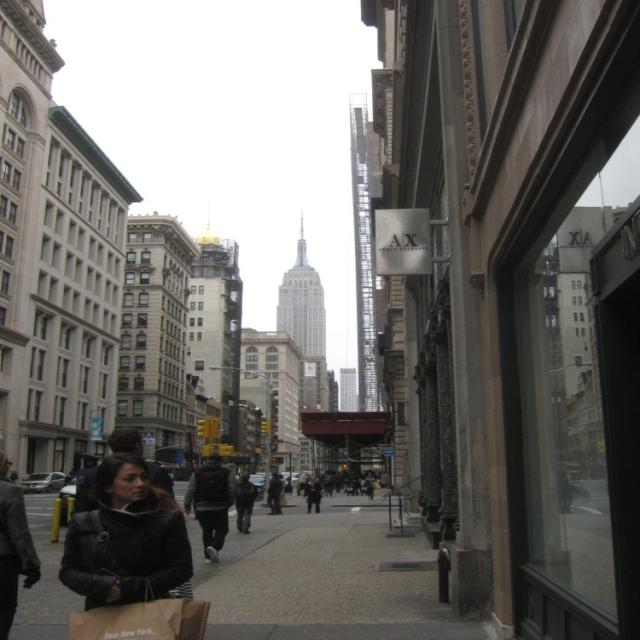body: (56, 451, 197, 614), (72, 424, 178, 515), (0, 449, 44, 640), (184, 452, 238, 565), (232, 472, 258, 535), (141, 454, 205, 468), (302, 475, 324, 515), (265, 470, 284, 515), (361, 470, 381, 500), (346, 470, 361, 496), (277, 473, 286, 514), (296, 472, 309, 496), (245, 460, 269, 472), (6, 461, 19, 482), (324, 470, 334, 497), (286, 472, 297, 496), (333, 471, 344, 493), (341, 468, 348, 491), (64, 471, 74, 486), (310, 466, 322, 475), (371, 469, 379, 479), (361, 469, 367, 479)
